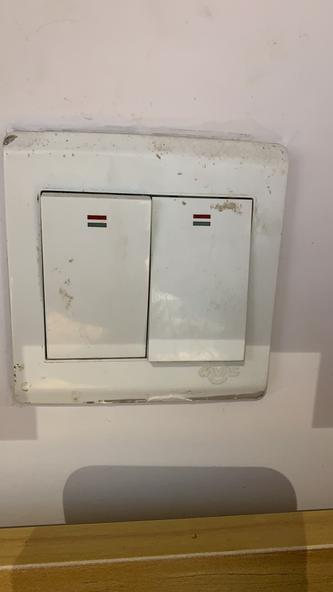switch: (40, 182, 150, 362), (151, 192, 257, 366)
